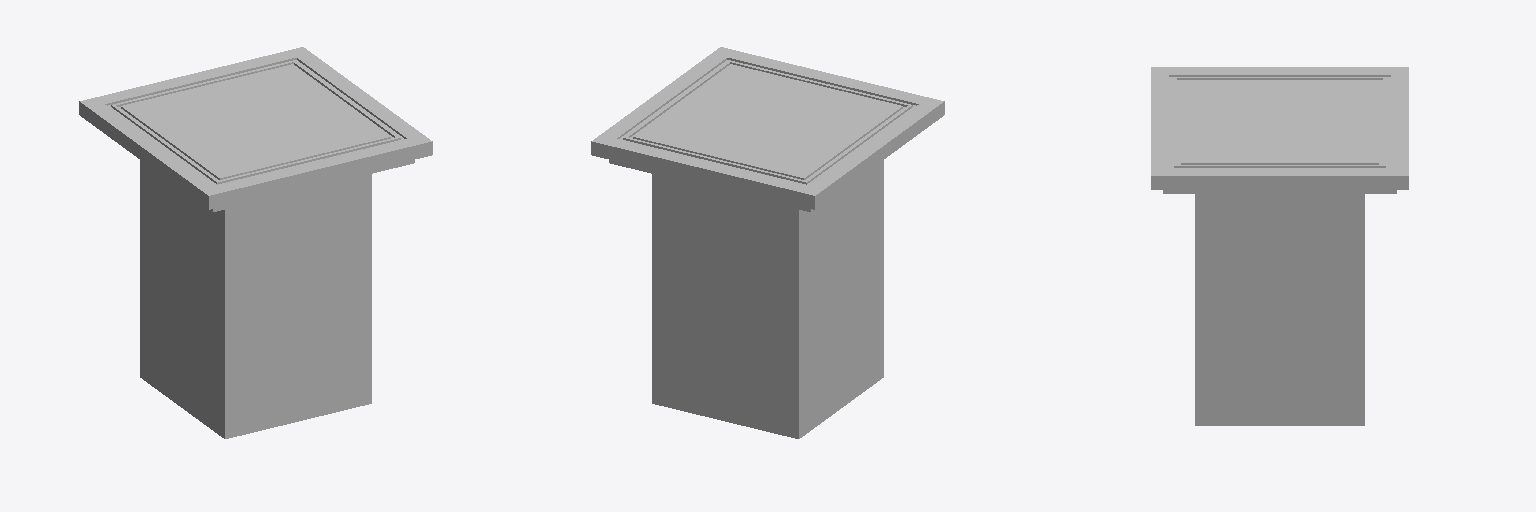
File: plateform.obj
3 renders of one model, left to right at view 1: azimuth 30°, elevation 25°; view 2: azimuth 150°, elevation 25°; view 3: azimuth 270°, elevation 25°, orthographic.
Parts seen in each view (by area): view 1: plateform; view 2: plateform; view 3: plateform.
Boxes of the visible parts, x1=… form: plateform: x1=79, y1=47, x2=432, y2=438; plateform: x1=591, y1=47, x2=944, y2=438; plateform: x1=1151, y1=67, x2=1408, y2=425.
Bounding box in the file's own units: 1.48 × 1.7 × 1.48.